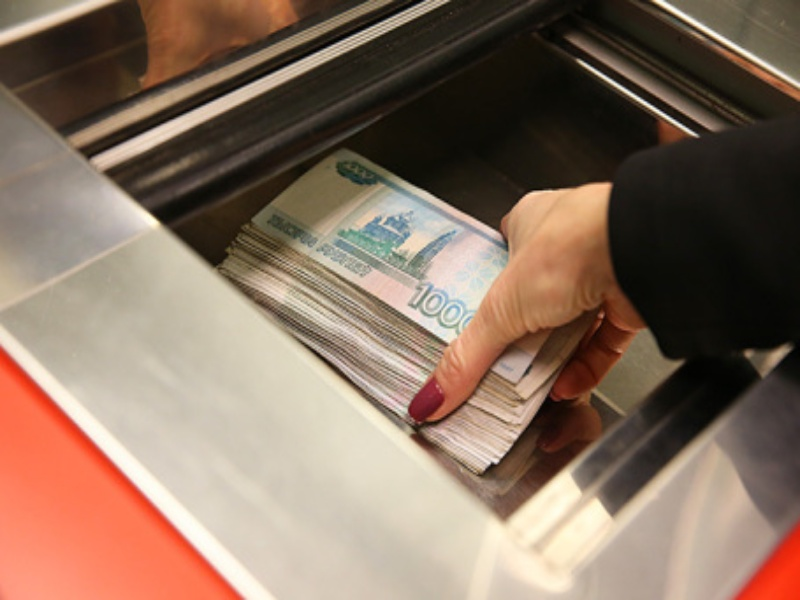cash: (213, 146, 597, 477)
